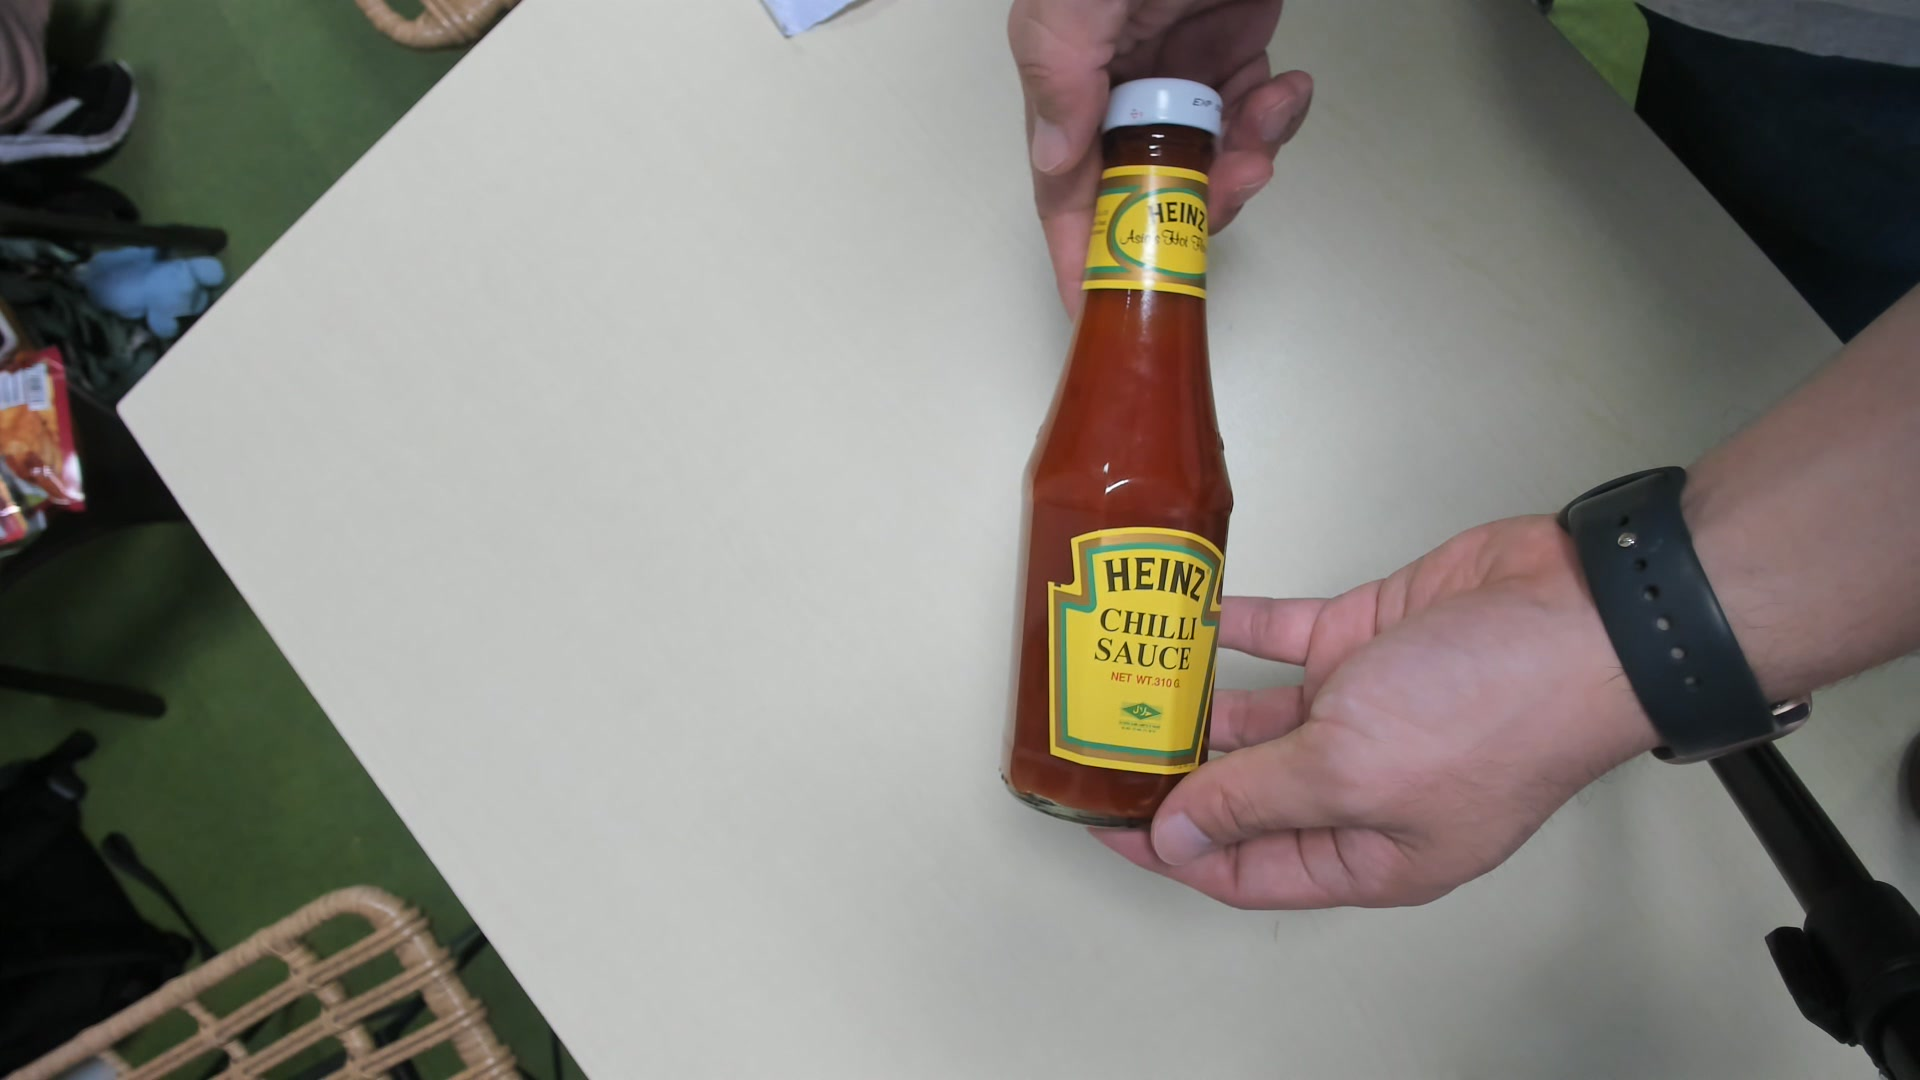KetchupChillSauce_300-399g_Halal_NonHealthy: (996, 70, 1242, 828)
